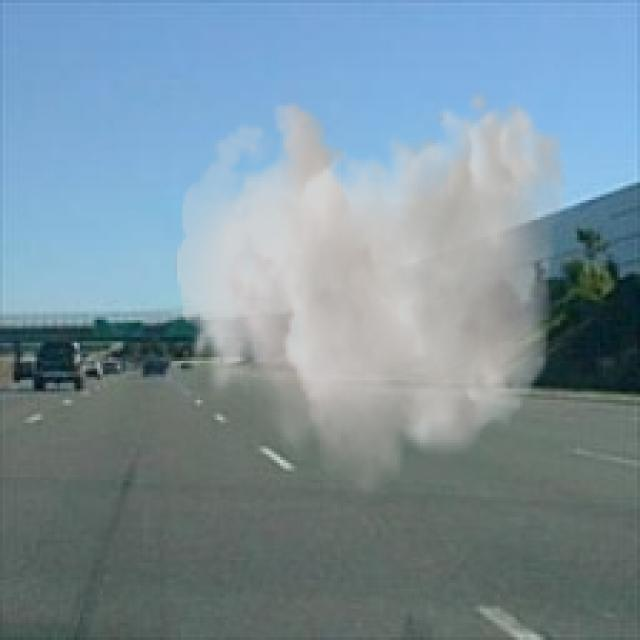smoke: (174, 86, 569, 508)
